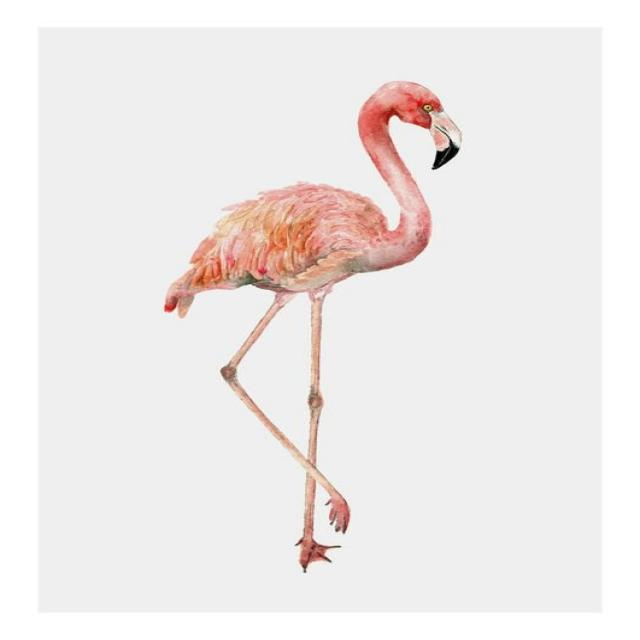flamingo: (165, 81, 462, 569)
